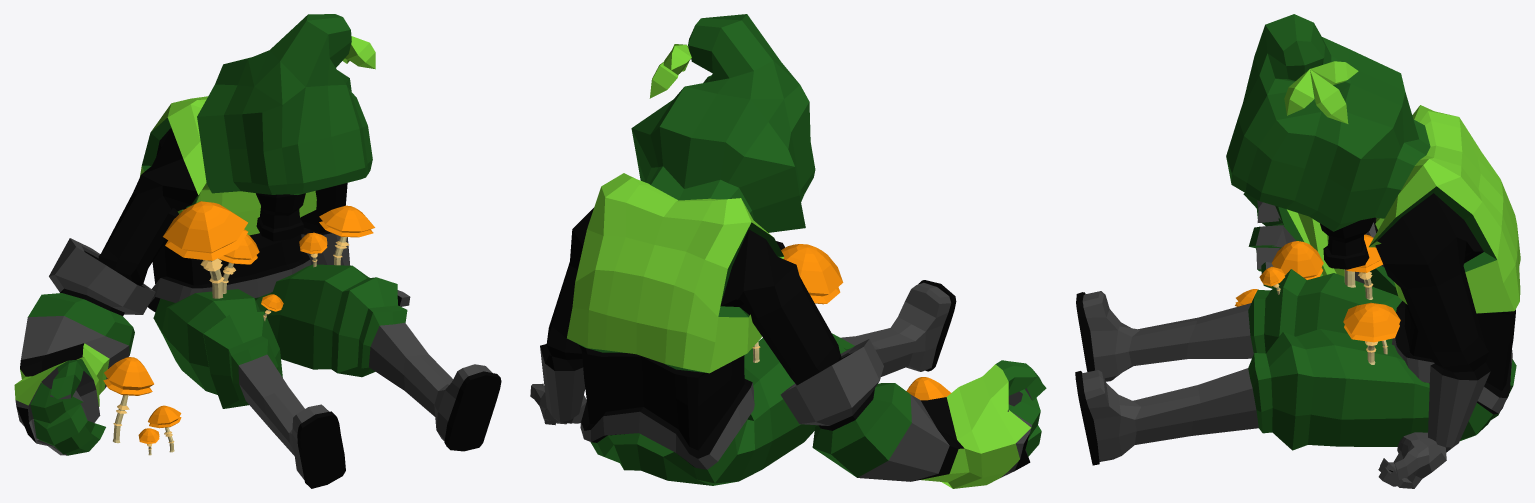
The model's file is GREENranger_FIN_01.fbx.
3 renders of one model, left to right at view 1: azimuth 30°, elevation 25°; view 2: azimuth 150°, elevation 25°; view 3: azimuth 270°, elevation 25°, orthographic. The views are drawn at different scales.
Parts seen in each view (by area): view 1: GREEN_ranger; view 2: GREEN_ranger; view 3: GREEN_ranger.
Boxes of the visible parts, x1,y1,x2,y2 form: GREEN_ranger: (14,14,501,488); GREEN_ranger: (530,14,1046,488); GREEN_ranger: (1075,14,1520,488).
Size of the model in its own units: 148 by 124 by 123.
